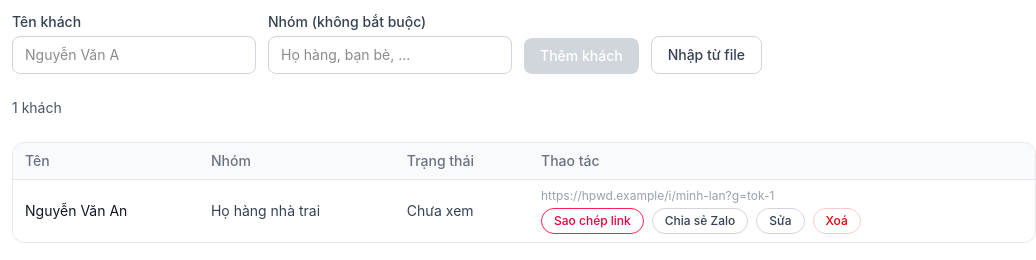
Test: GuestTable › huỷ sửa không gọi PATCH và giữ nguyên dữ liệu cũ
The image size is (1036, 260).
Click the button "Sửa". click: [780, 221]
box: [756, 208, 805, 234]
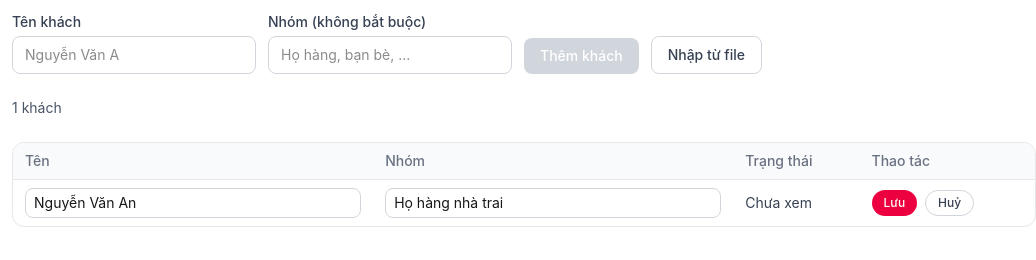
Replace the text in the 1st field showing "Nguyễn Văn An" with "Bị đổi". click: [193, 203]
box: [25, 188, 361, 218]
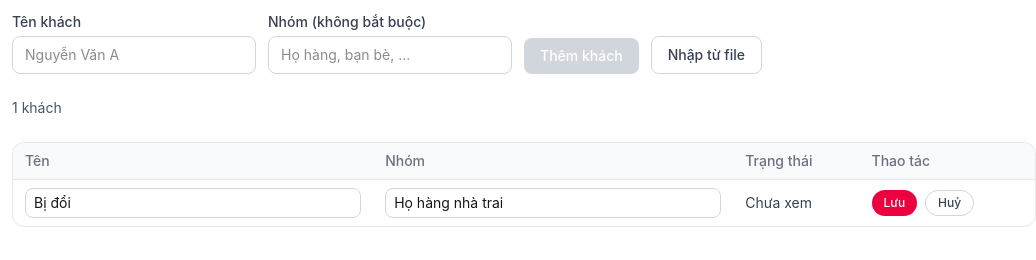
Click the button "Huỷ". click: [950, 203]
box: [925, 190, 974, 216]
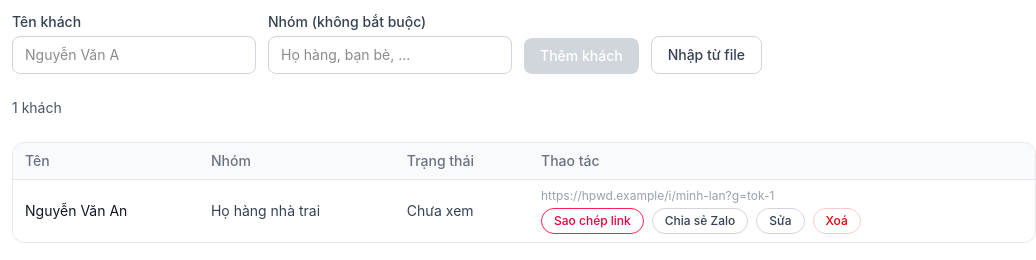
Expected: the text "Bị đổi" is not shown
Now the text "Nguyễn Văn An" is shown, box [13, 180, 199, 242]
